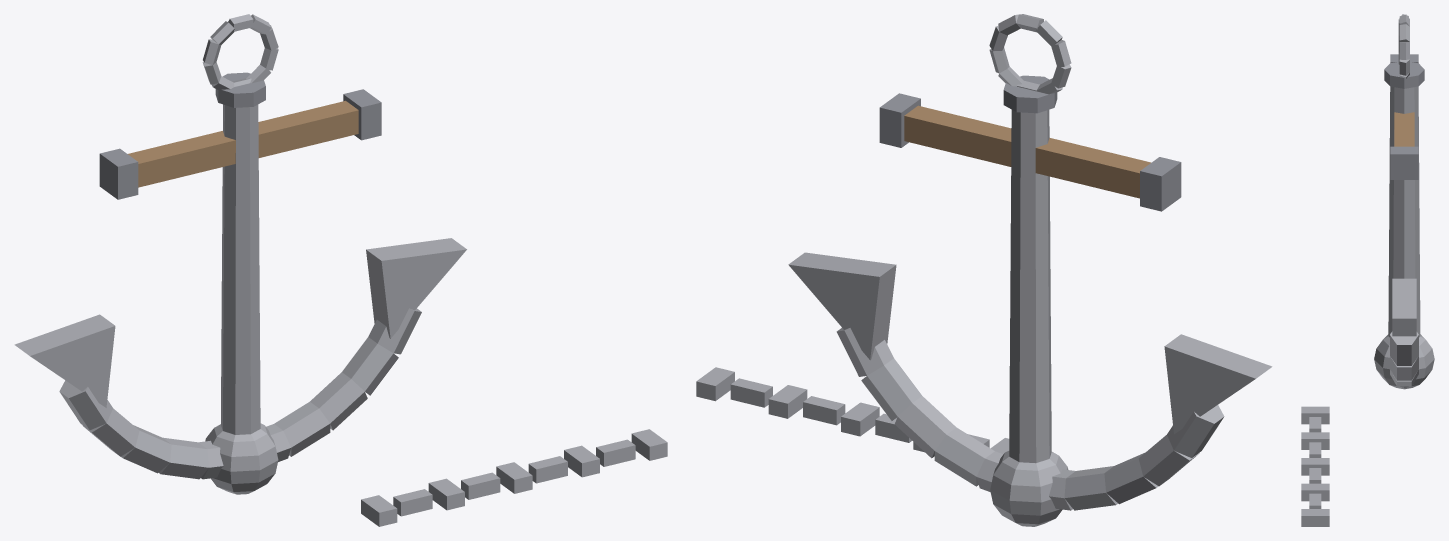
File: ws_camp_anchor.glb
3 views of the same model, side by side, from view 1: azimuth 30°, elevation 25°; view 2: azimuth 150°, elevation 25°; view 3: azimuth 270°, elevation 25° (orthographic). The views are drawn at different scales.
Parts seen in each view (by area): view 1: ws_camp_anchor; view 2: ws_camp_anchor; view 3: ws_camp_anchor.
Part boxes in pixels (box(x1,y1,x2,y2)): ws_camp_anchor: box(14, 14, 667, 526); ws_camp_anchor: box(696, 14, 1272, 526); ws_camp_anchor: box(1301, 14, 1434, 526).
Size of the model in its own units: 1.29 by 1.01 by 0.33.
